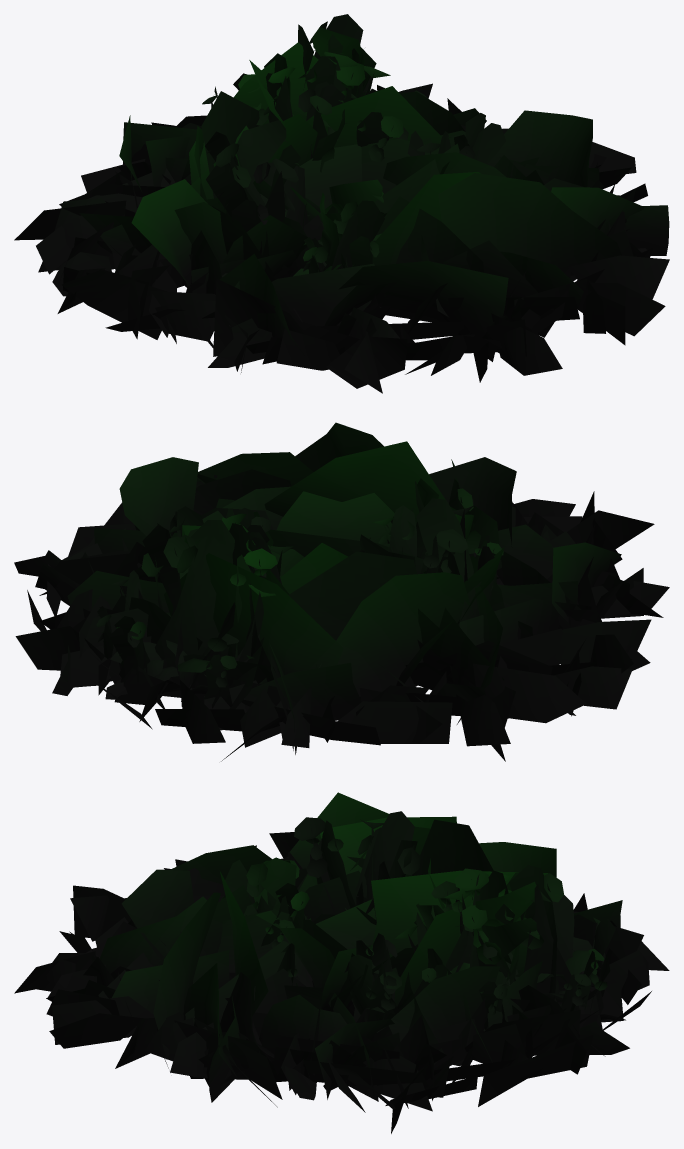
The model's file is Grass Mixed_D.fbx.
3 views of the same model, one above another, from view 1: azimuth 30°, elevation 25°; view 2: azimuth 150°, elevation 25°; view 3: azimuth 270°, elevation 25° (orthographic). The views are drawn at different scales.
Parts seen in each view (by area): view 1: Grass MixedD_G_LOD0, Grass MixedD_F_LOD0; view 2: Grass MixedD_G_LOD0, Grass MixedD_F_LOD0; view 3: Grass MixedD_G_LOD0, Grass MixedD_F_LOD0.
Boxes of the visible parts, bbox=[...] form: Grass MixedD_G_LOD0: bbox=[14, 42, 669, 393]; Grass MixedD_F_LOD0: bbox=[202, 14, 505, 308]; Grass MixedD_G_LOD0: bbox=[14, 422, 669, 761]; Grass MixedD_F_LOD0: bbox=[96, 478, 503, 708]; Grass MixedD_G_LOD0: bbox=[14, 792, 669, 1133]; Grass MixedD_F_LOD0: bbox=[221, 811, 625, 1031].
Size of what is drawn, in the model's own units: 2.33 by 0.6309 by 2.36.
